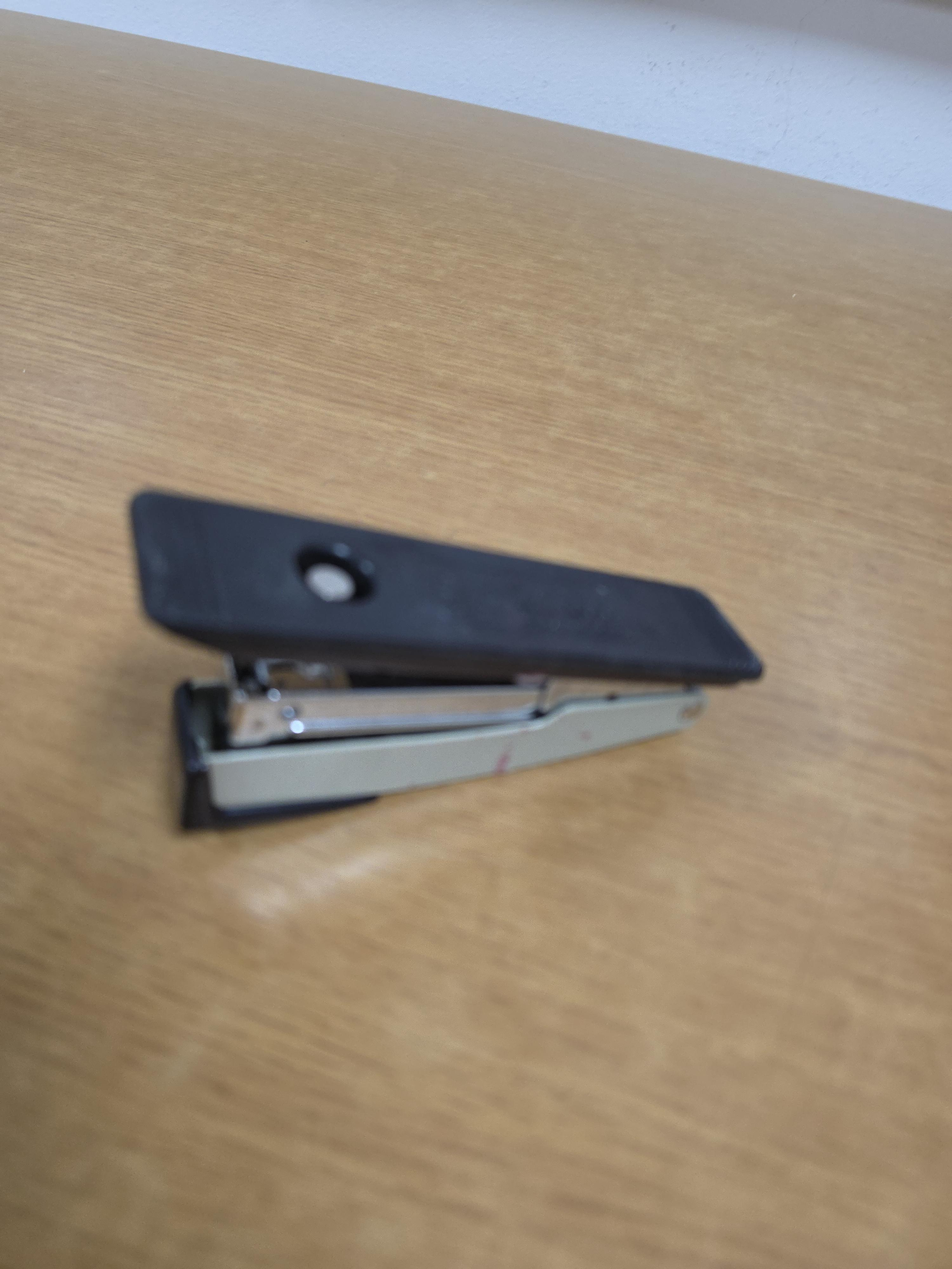stapler: (127, 490, 767, 835)
